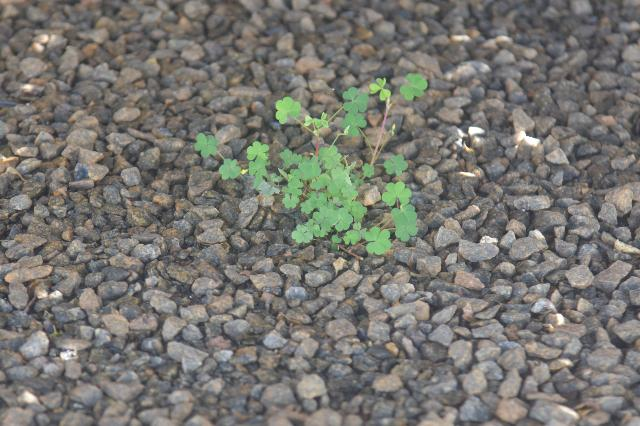MalezaMontesDelPlata: (194, 73, 428, 260)
